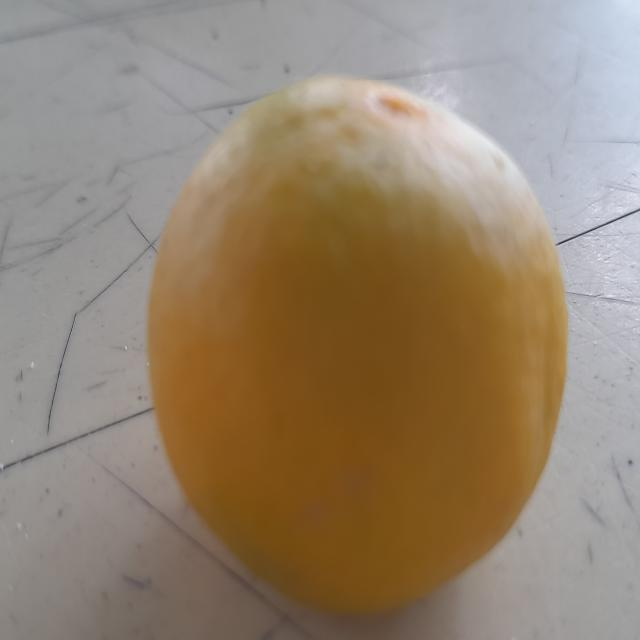greening: (120, 58, 565, 627)
